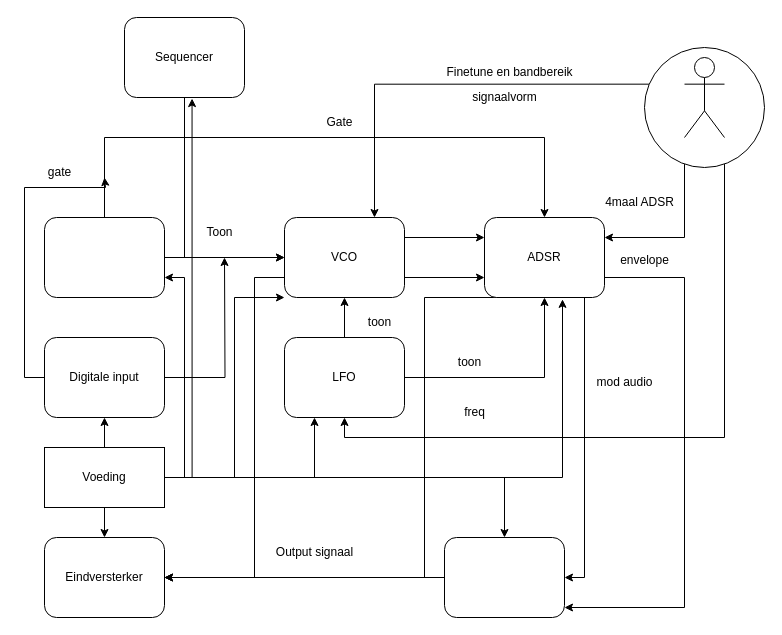
This 782x635 diagram has some shape labels left out. The box of each missing label's shape, as (x1, y1, x2, y2) in pixels:
Actor: (684, 56, 724, 138)
Analoge input: (44, 216, 164, 298)
VCF: (444, 536, 564, 618)
